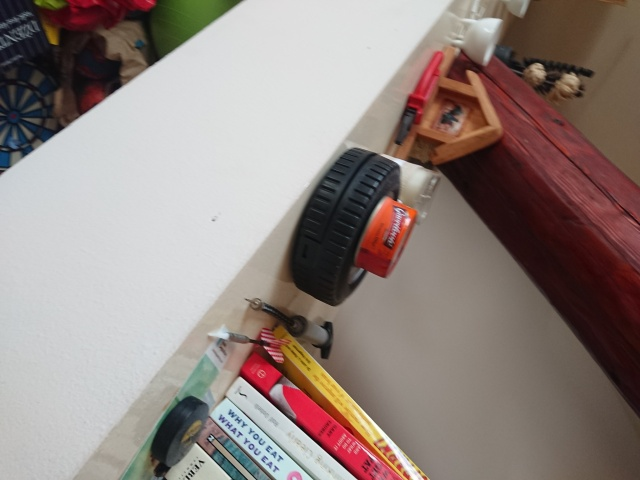Gavrilovic Pork Liver Pate 100g: (350, 192, 419, 280)
